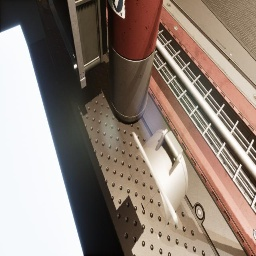NitrogenTank ,: (107, 0, 163, 123)
